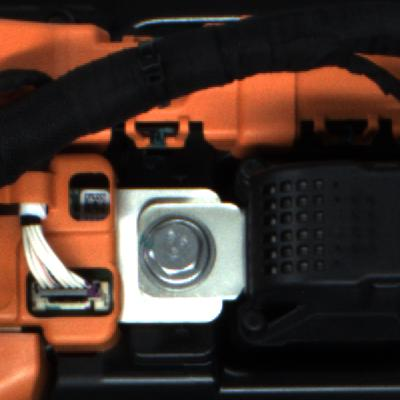nut_b: (133, 209, 218, 292)
